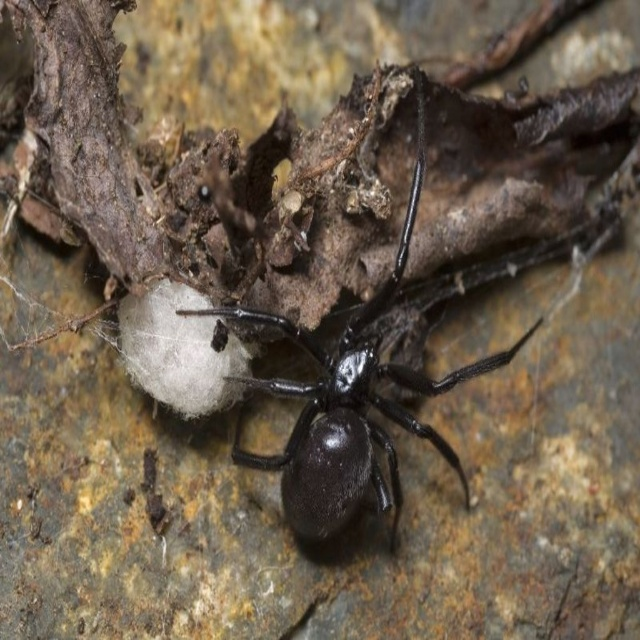Spider: (175, 64, 544, 556)
